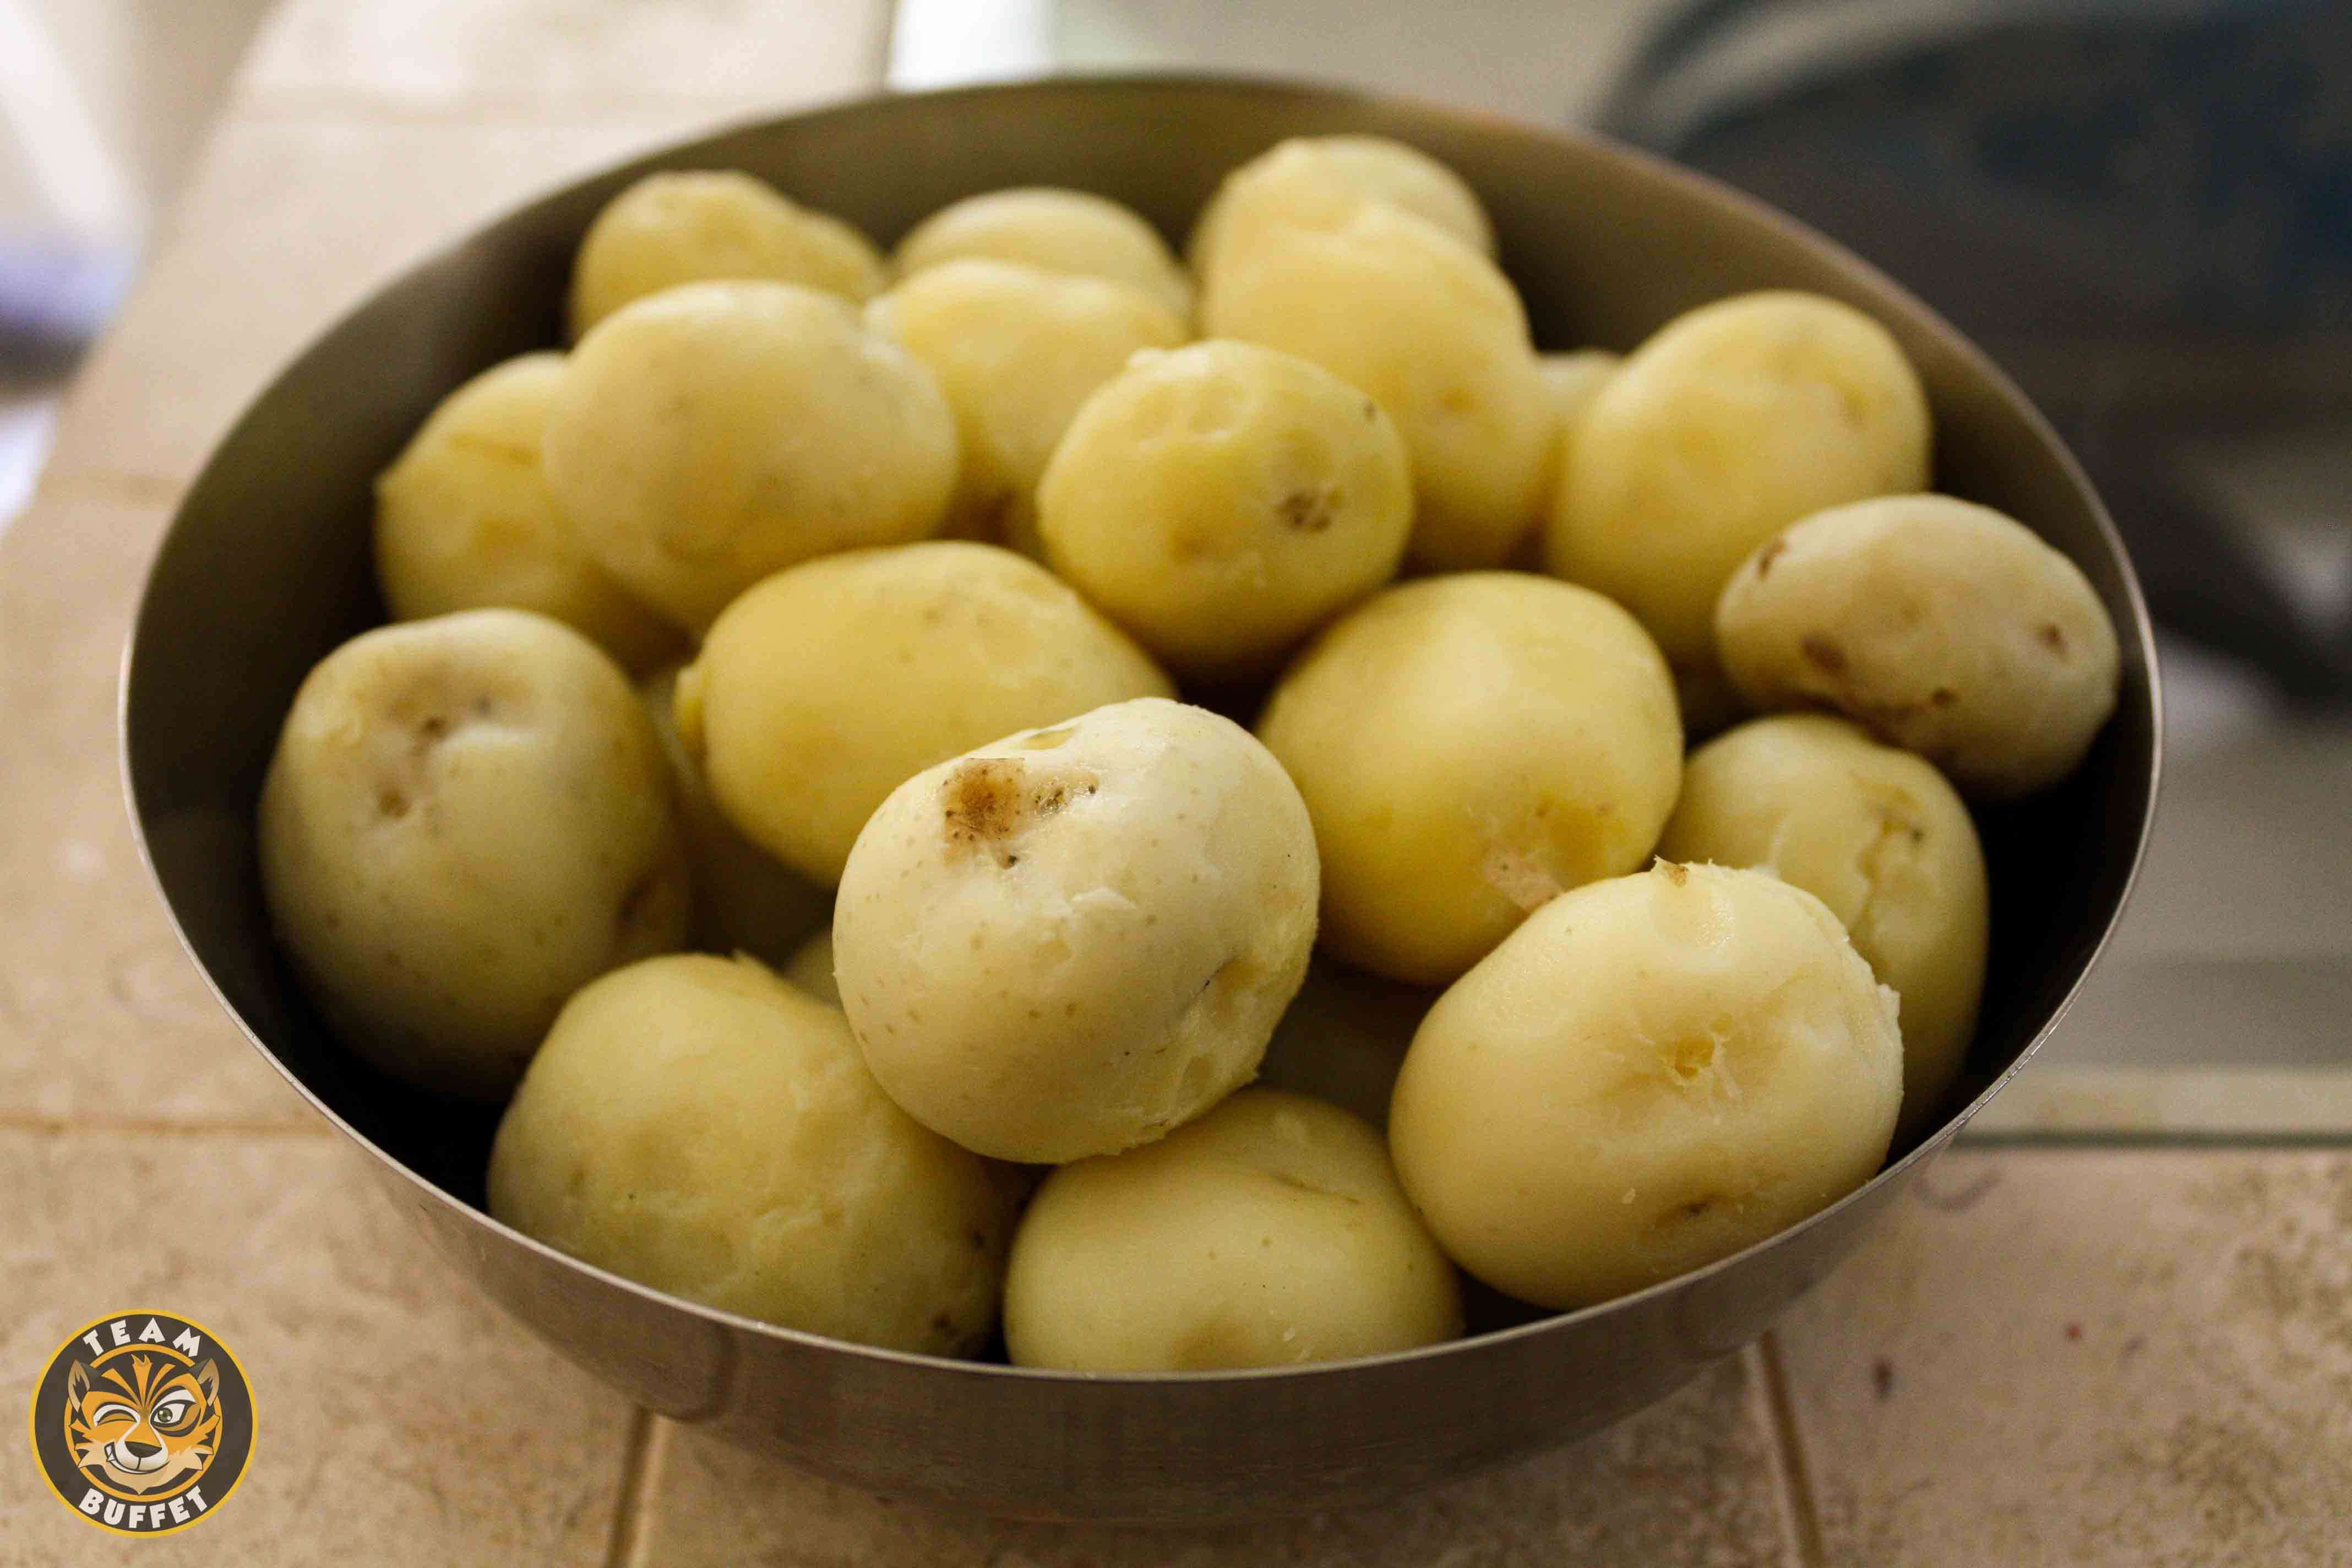boiled potatoes: (366, 210, 1981, 1297)
